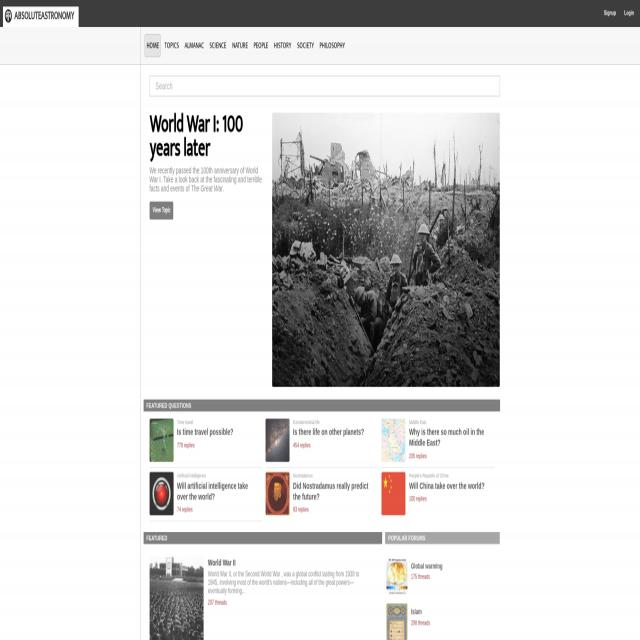button: (272, 113, 500, 387), (149, 557, 204, 640), (4, 6, 79, 25), (266, 418, 290, 462), (382, 418, 406, 462), (266, 472, 290, 515), (382, 472, 406, 515), (150, 418, 173, 462), (150, 472, 173, 515), (387, 558, 408, 596), (386, 602, 407, 640), (150, 201, 173, 220), (162, 35, 180, 55), (320, 38, 344, 53), (145, 34, 160, 57), (184, 38, 203, 53), (274, 38, 292, 53), (210, 38, 227, 53), (297, 38, 314, 53), (232, 38, 248, 53), (254, 38, 268, 53)
field: (150, 77, 500, 96)
